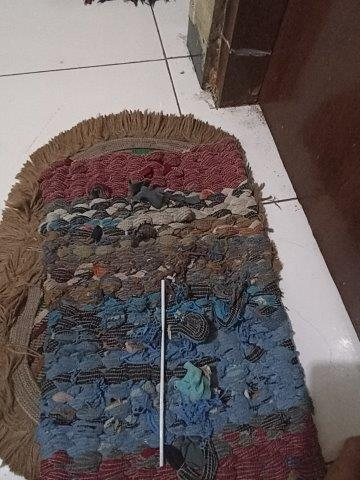sedotan: (158, 281, 165, 465)
